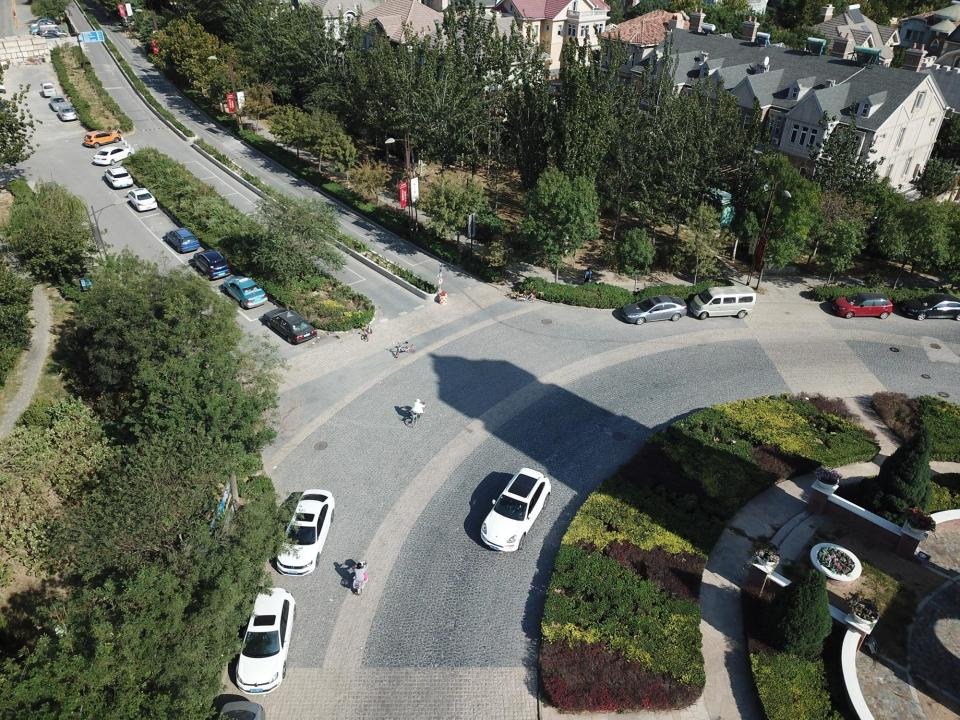car: (237, 588, 296, 694), (481, 467, 551, 552), (276, 489, 335, 577), (263, 307, 317, 344), (621, 296, 687, 324), (831, 293, 893, 319), (900, 294, 960, 320), (223, 276, 268, 309), (193, 250, 231, 280), (166, 228, 199, 252), (93, 147, 133, 165), (127, 188, 157, 211), (104, 166, 133, 189), (84, 130, 121, 148), (58, 105, 78, 122), (30, 23, 54, 35), (31, 18, 55, 29), (40, 30, 68, 38), (35, 35, 58, 44)
van: (689, 286, 756, 319), (50, 94, 68, 111), (40, 80, 56, 97), (122, 15, 143, 27)
